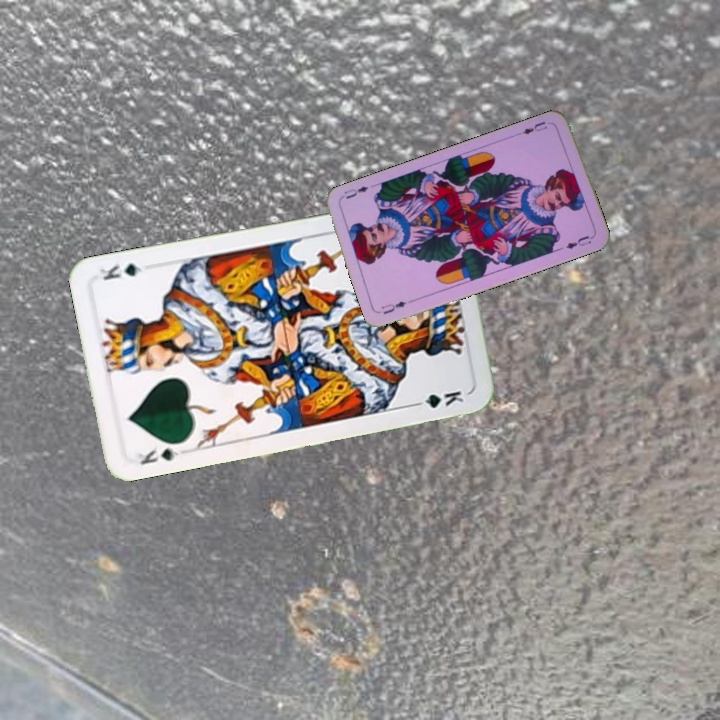EU: (377, 297, 409, 317), (519, 117, 550, 137)
GK: (129, 444, 182, 467)
